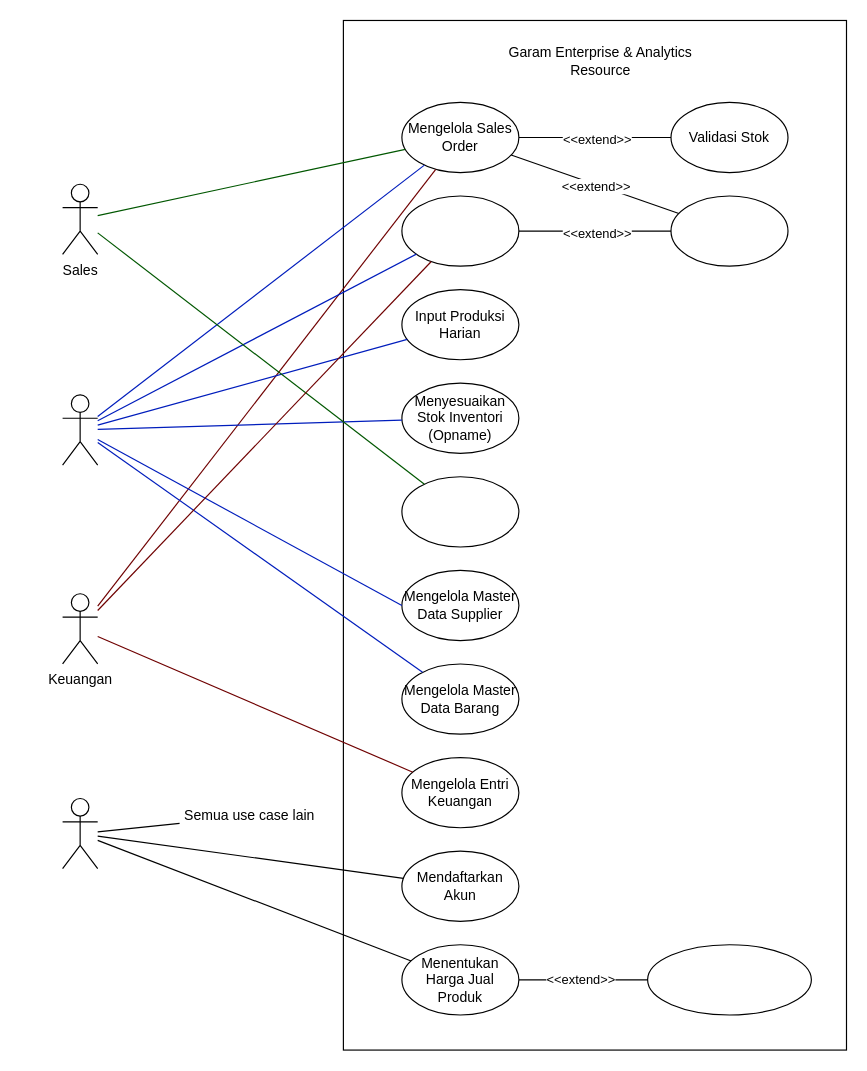
Image size: 867x1071. Some labels were removed from this diagram. Each missing label, with the box of its shape:
Mendaftarkan Pembayaran: (670, 195, 788, 266)
Mengelola Master Data Customer: (401, 476, 519, 547)
Mengelola Purchase Order: (401, 195, 519, 266)
Menggunakan Engine Rekomendasi Harga Jual: (646, 944, 811, 1015)
Owner: (61, 797, 98, 869)
Pengawas Gudang: (61, 394, 98, 465)
